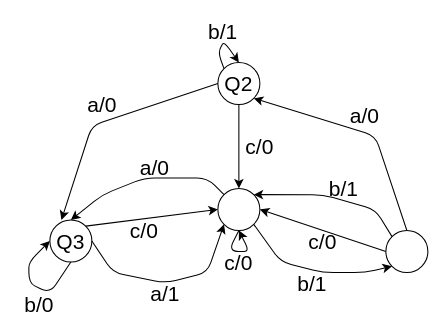
Image size: 446x334. Some labels were removed from this diagram. The box of each missing label's shape, as (x1, y1, x2, y2) in pixels:
Q1: (217, 187, 260, 230)
Q4: (385, 229, 428, 272)
